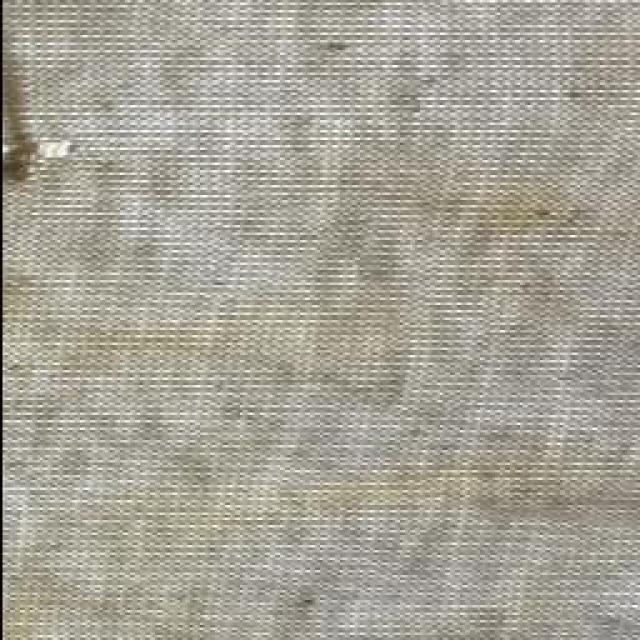other: (34, 118, 108, 192)
